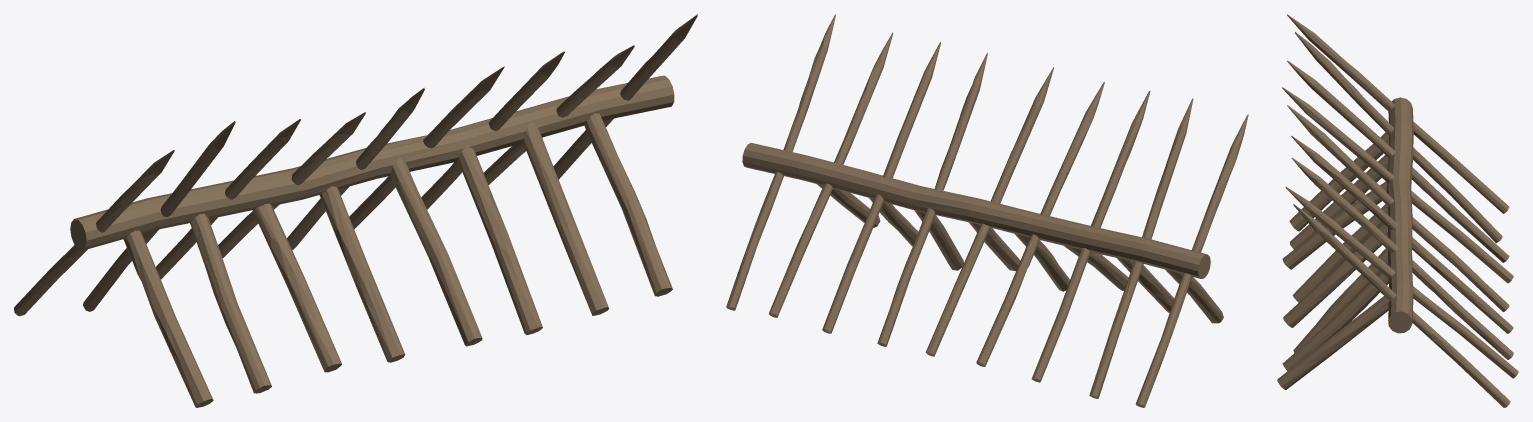
The model's file is siege_spike_f.FBX.
3 views of the same model, side by side, from view 1: azimuth 30°, elevation 25°; view 2: azimuth 150°, elevation 25°; view 3: azimuth 270°, elevation 25° (orthographic). The views are drawn at different scales.
Visible parts, largest first — view 1: siege_spike_f; view 2: siege_spike_f; view 3: siege_spike_f.
Part boxes in pixels (x1=…): siege_spike_f: x1=14, y1=14, x2=697, y2=407; siege_spike_f: x1=726, y1=14, x2=1248, y2=407; siege_spike_f: x1=1277, y1=14, x2=1518, y2=407.
Bounding box in the file's own units: 3.42 × 1.62 × 1.63.
